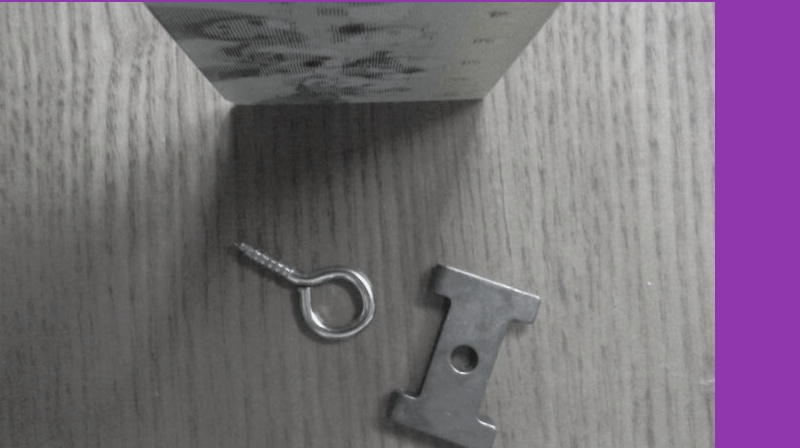O001: (230, 237, 378, 341)
O002: (384, 259, 543, 447)
